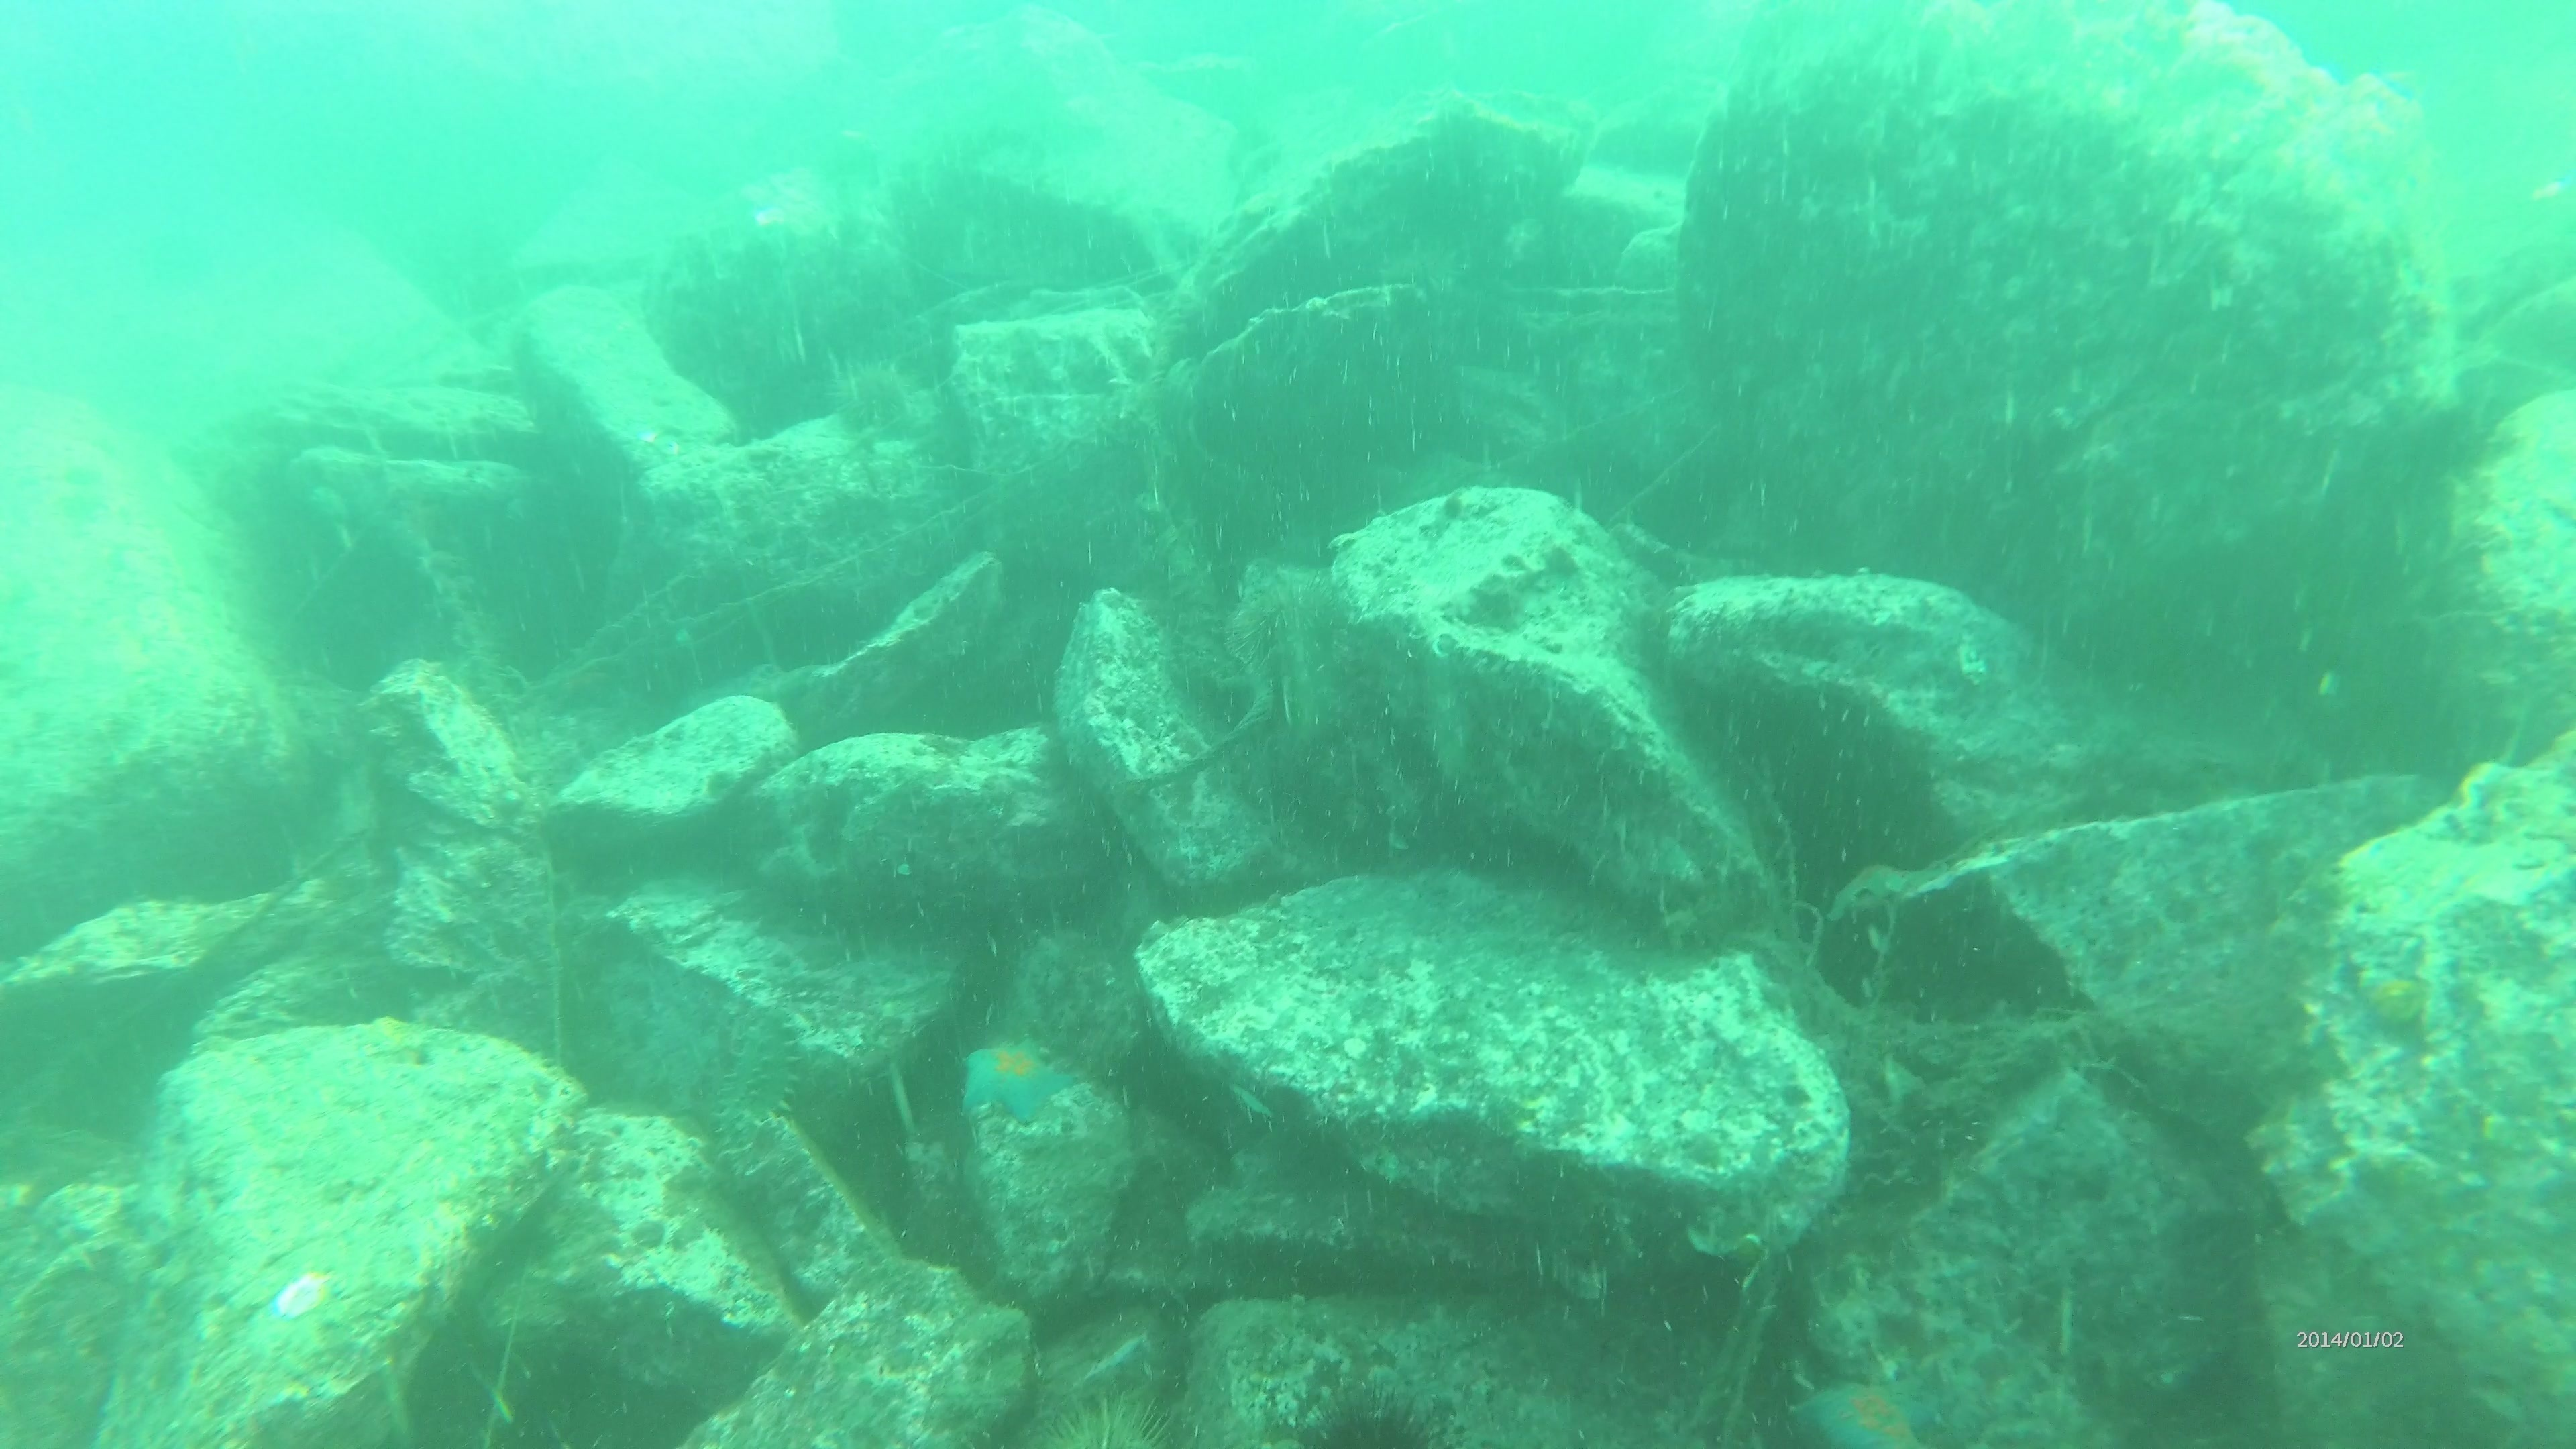echinus: (1279, 1368, 1465, 1444), (819, 350, 936, 451), (1031, 1389, 1168, 1449)
holothurian: (718, 1001, 803, 1166)
starfish: (952, 1023, 1085, 1132), (1783, 1364, 1950, 1445)
